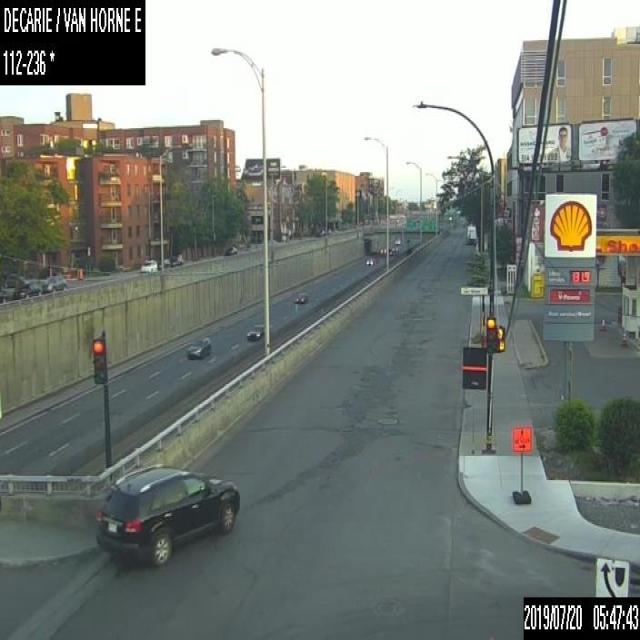construction: (509, 424, 532, 504), (621, 330, 626, 346), (600, 318, 606, 330), (79, 267, 82, 278), (76, 267, 78, 278)
vehicle: (94, 462, 241, 566), (186, 334, 211, 358), (14, 281, 41, 299), (42, 275, 66, 292), (246, 323, 266, 340), (2, 272, 24, 287), (464, 224, 476, 243), (140, 258, 156, 272), (156, 257, 170, 269), (168, 253, 182, 265), (224, 245, 237, 255), (294, 292, 306, 301), (362, 256, 372, 265), (0, 287, 6, 301), (379, 244, 385, 253), (388, 246, 392, 255), (392, 245, 399, 250), (394, 238, 399, 244)
